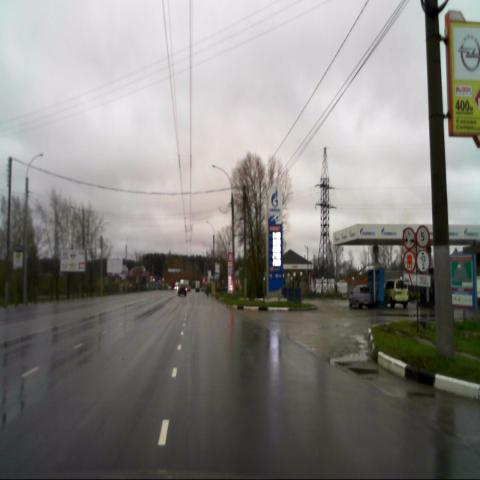3_16: (402, 226, 418, 251)
3_32: (404, 250, 417, 270)
